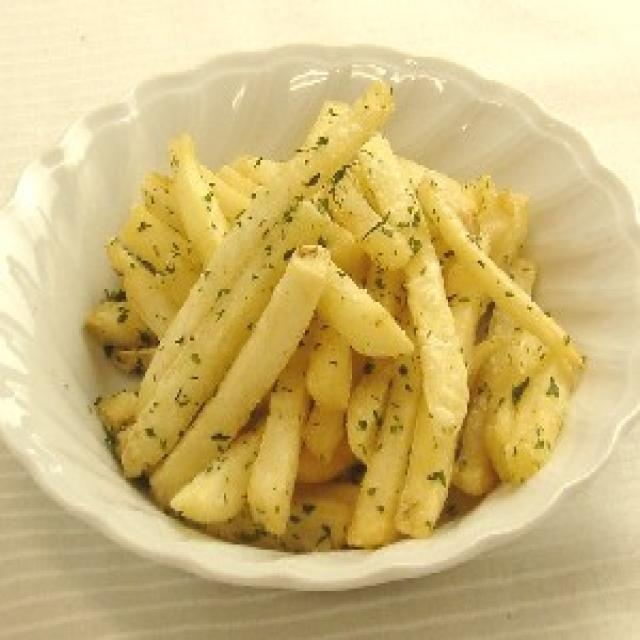French Fries: (102, 93, 562, 520)
